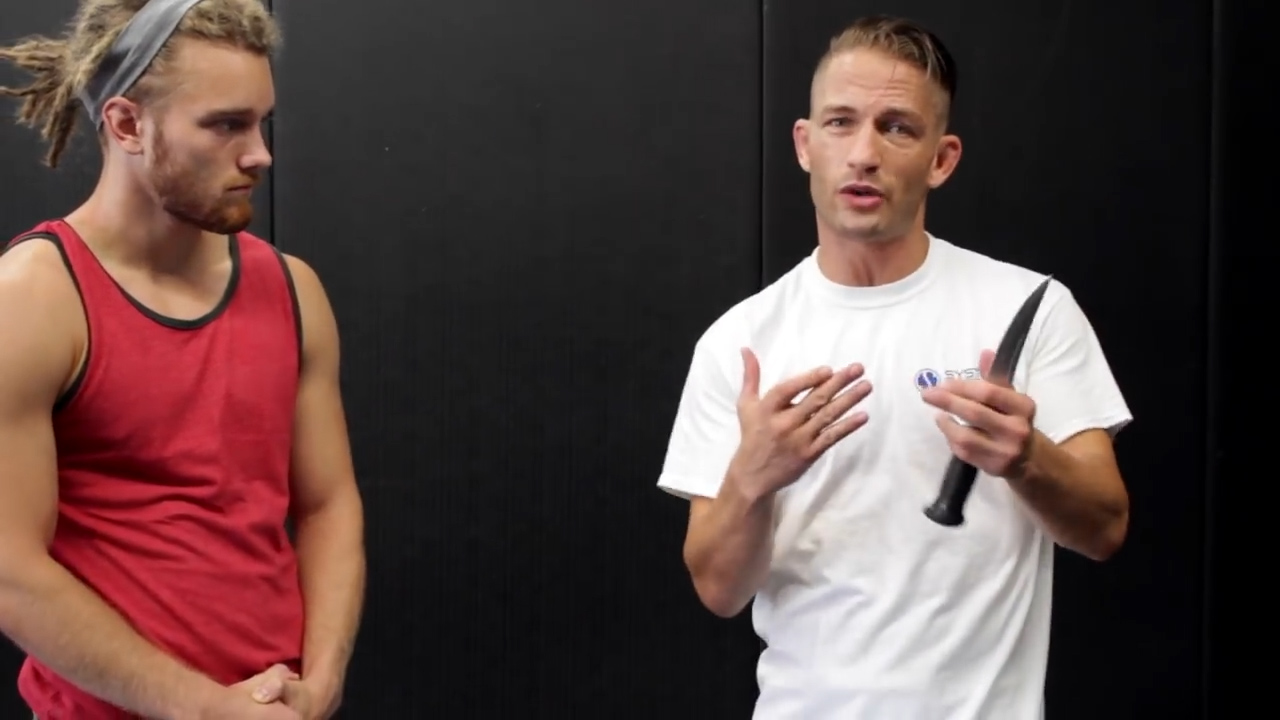knife: (914, 263, 1067, 540)
